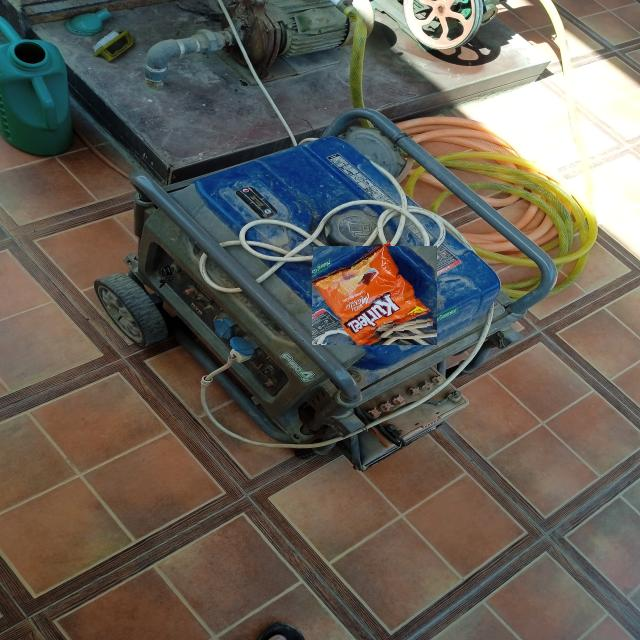Plastic: (312, 246, 437, 345)
